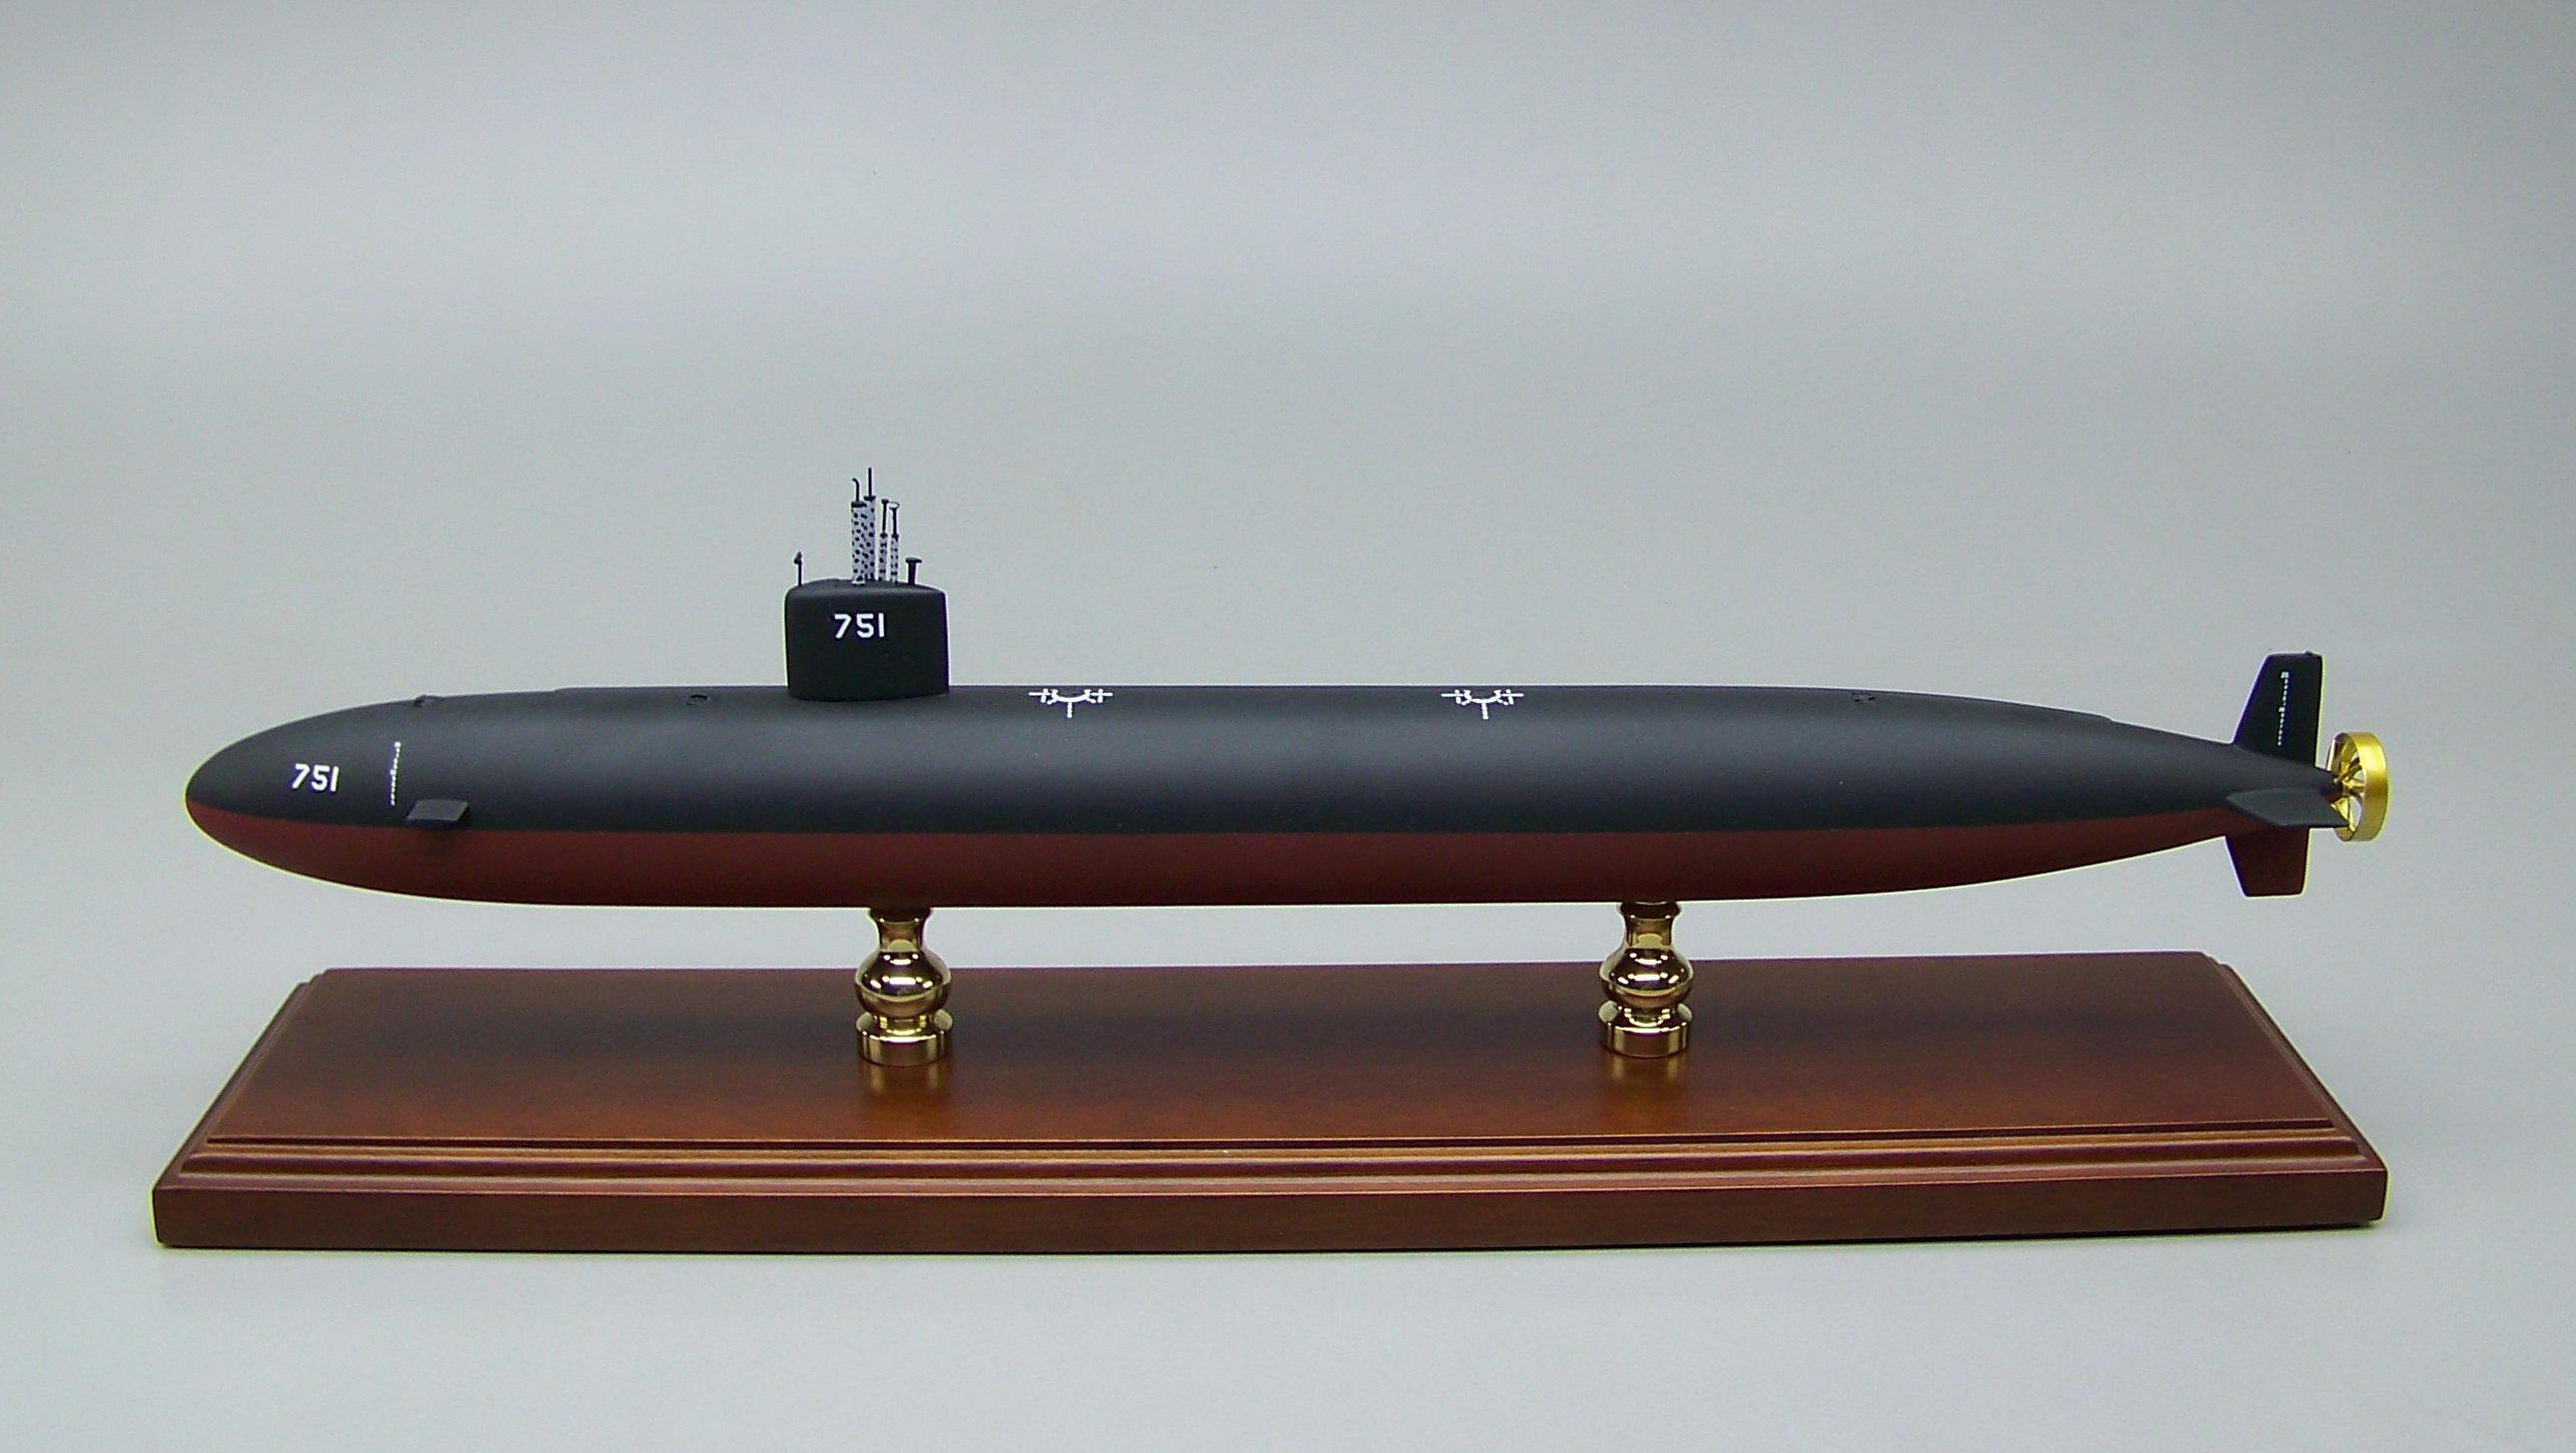Submarine: (90, 310, 2541, 1025)
